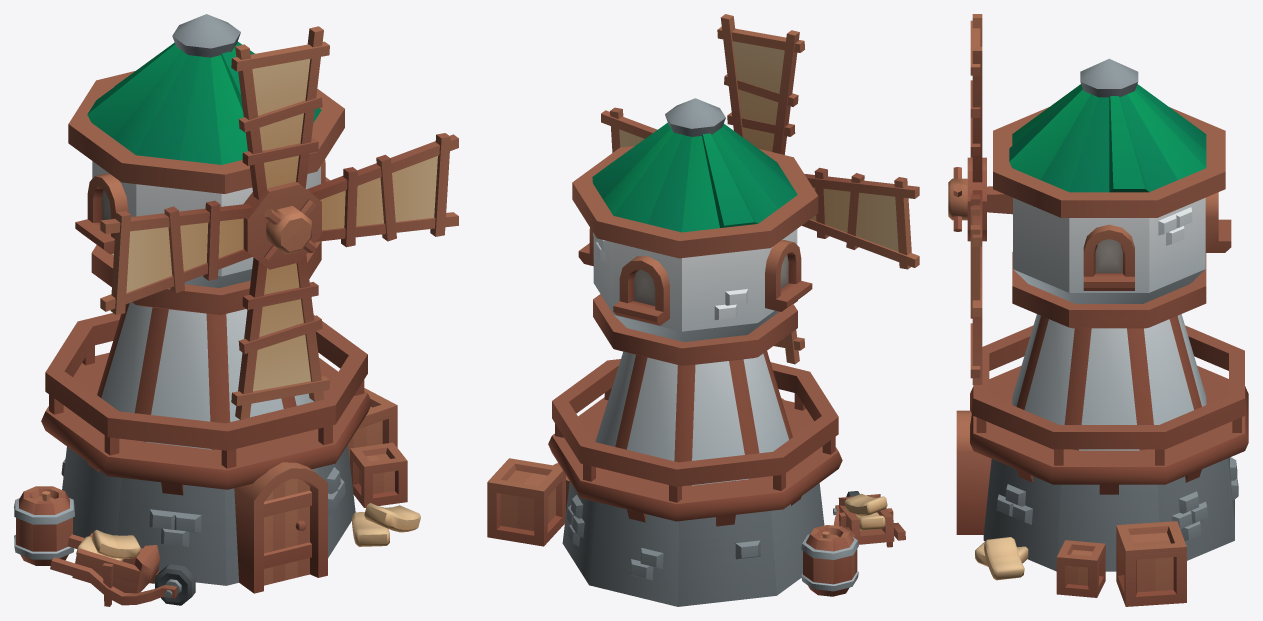
File: building_windmill_green.gltf
3 views of the same model, side by side, from view 1: azimuth 30°, elevation 25°; view 2: azimuth 150°, elevation 25°; view 3: azimuth 270°, elevation 25° (orthographic). The views are drawn at different scales.
Parts seen in each view (by area): view 1: building_windmill_green, building_windmill_top_fan_green, building_windmill_top_green; view 2: building_windmill_green, building_windmill_top_green, building_windmill_top_fan_green; view 3: building_windmill_green, building_windmill_top_green, building_windmill_top_fan_green.
Part boxes in pixels (x1,y1,x2,y2): building_windmill_green: (14,302,420,606); building_windmill_top_fan_green: (100,26,458,419); building_windmill_top_green: (68,14,344,314); building_windmill_green: (487,351,905,606); building_windmill_top_green: (572,98,818,365); building_windmill_top_fan_green: (601,14,919,364); building_windmill_green: (956,314,1248,606); building_windmill_top_green: (987,58,1231,328); building_windmill_top_fan_green: (948,14,986,384).
Size of the model in its own units: 1.13 by 1.46 by 0.8165.
Materials: 1 (1 with a texture image).
